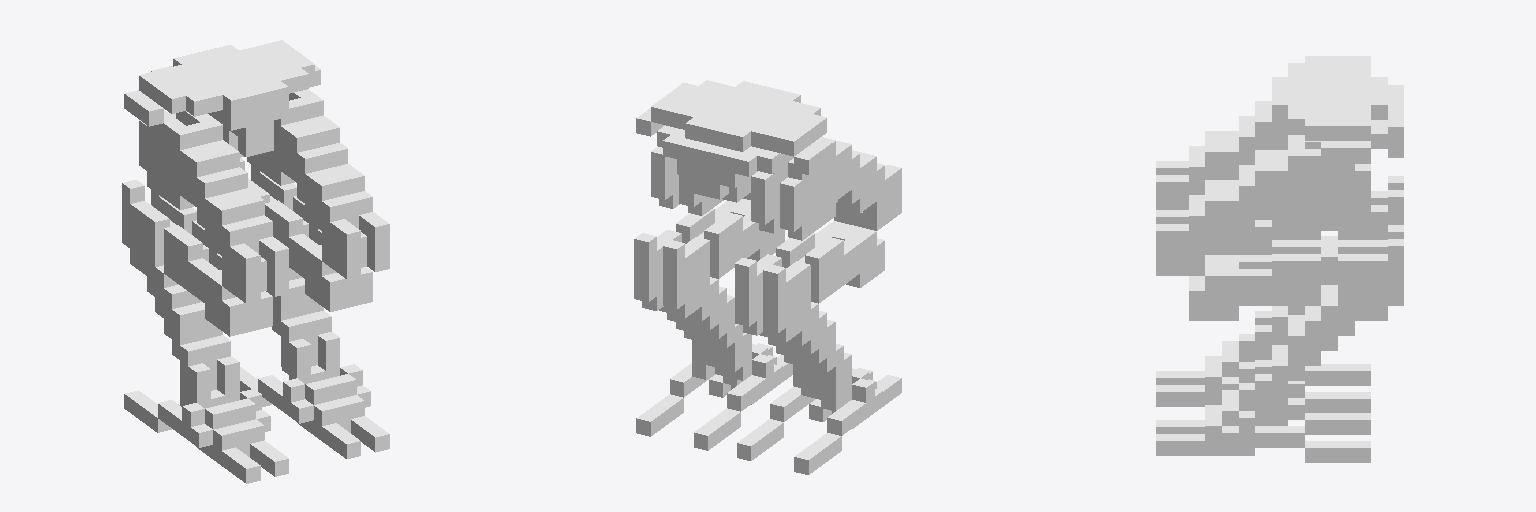
Rendered from Robot_Leg.obj.
3 views of the same model, side by side, from view 1: azimuth 30°, elevation 25°; view 2: azimuth 150°, elevation 25°; view 3: azimuth 270°, elevation 25° (orthographic).
Bounding box in the file's own units: 12 × 22 × 15.